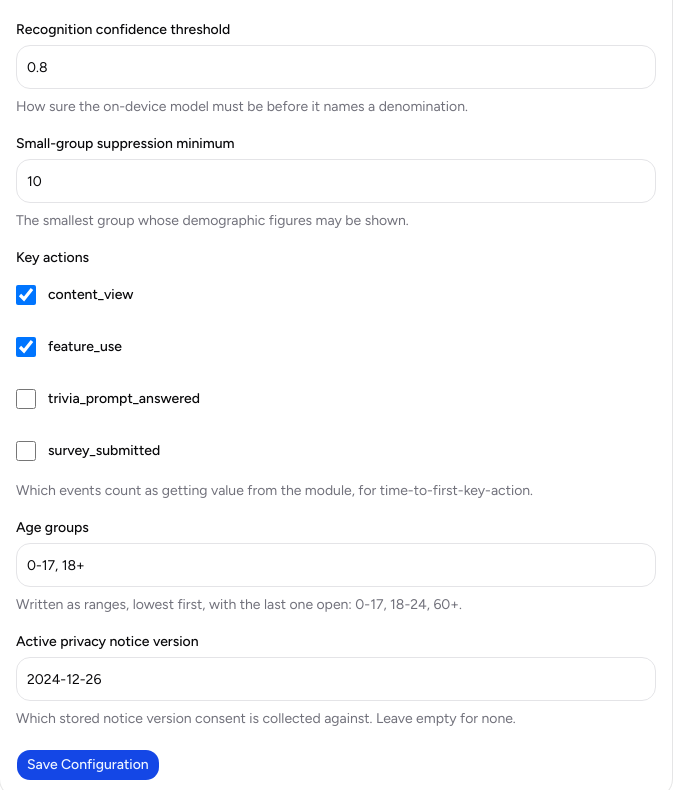
it: ModuleConfigurationView › announces successful and failed saves
The image size is (690, 790).
Later steps or results of the test are not shown.
(page scrolled)
Click the button "Save Configuration" at point(88, 765), box [16,749,160,781]
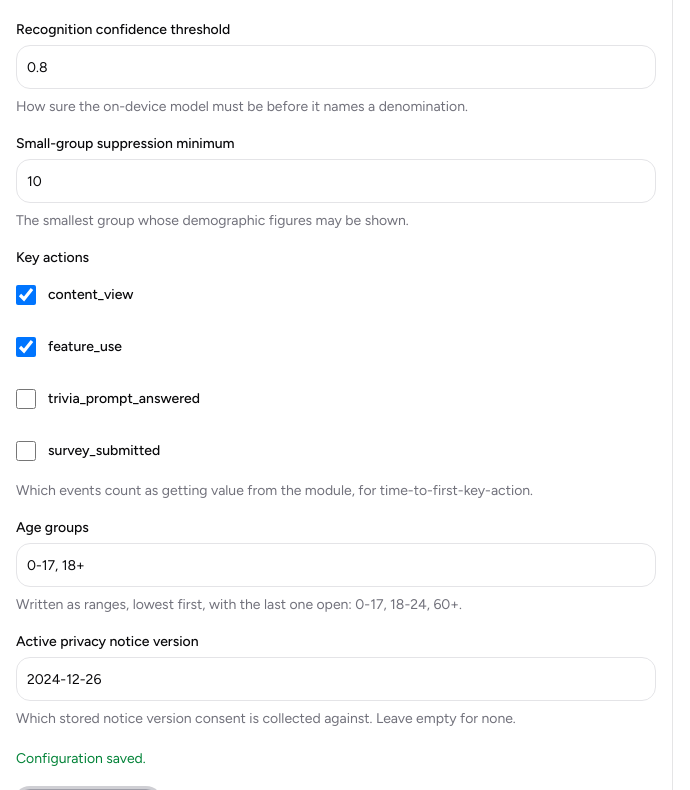
Result: the message shows "Configuration saved" at [16,750,146,767]
